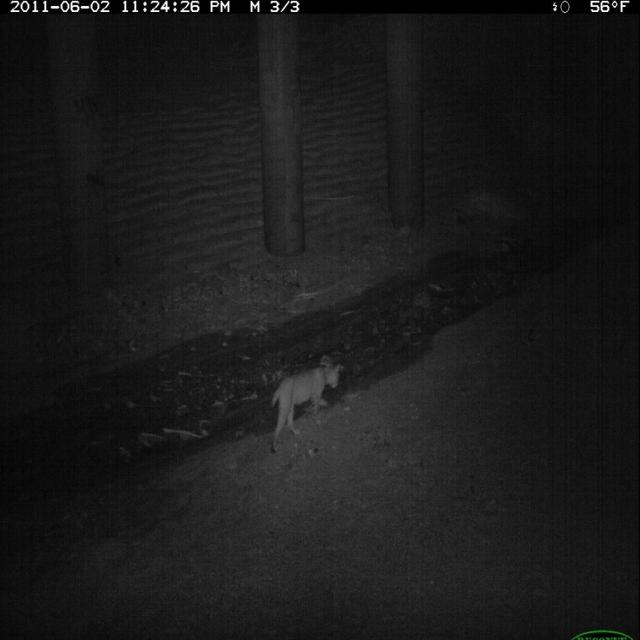bobcat: (266, 353, 347, 462)
